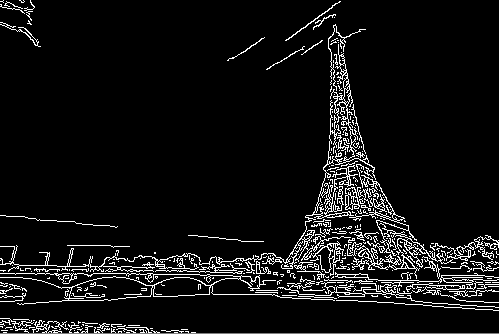eiffel tower: (281, 23, 435, 267)
